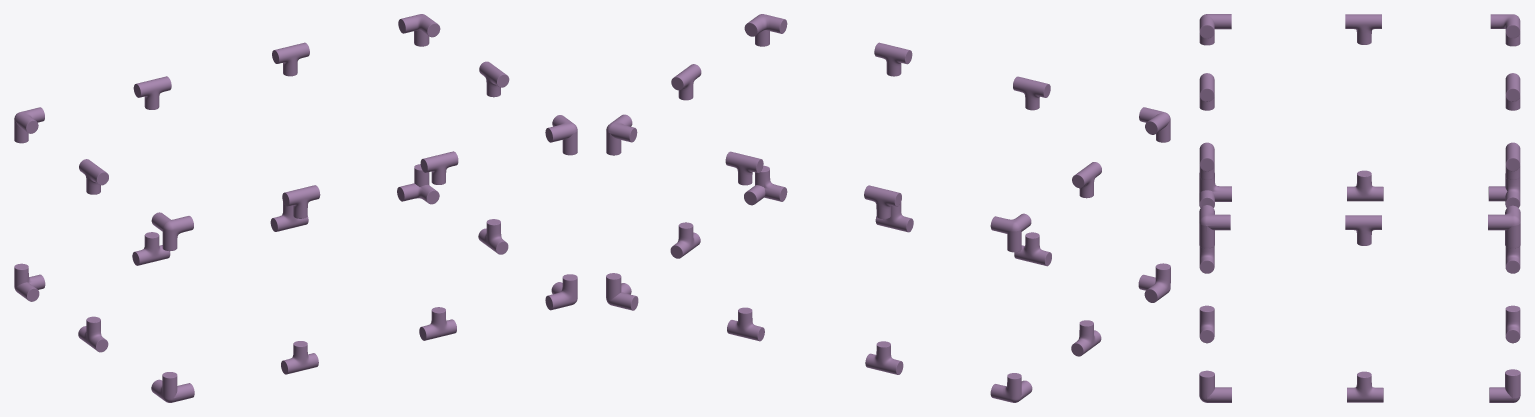
Rendered from Connections.fbx.
The picture shows the model from 3 angles, left to right: view 1: azimuth 30°, elevation 25°; view 2: azimuth 150°, elevation 25°; view 3: azimuth 270°, elevation 25°; orthographic projection. The views are drawn at different scales.
Visible parts, largest first — view 1: polySurface56, polySurface62, polySurface61, polySurface60, polySurface57, polySurface58, polySurface54, polySurface39, polySurface44, polySurface43, polySurface52, polySurface45 (+8 smaller); view 2: polySurface58, polySurface60, polySurface52, polySurface57, polySurface61, polySurface62, polySurface54, polySurface56, polySurface44, polySurface40, polySurface41, polySurface42 (+8 smaller); view 3: polySurface61, polySurface60, polySurface49, polySurface48, polySurface47, polySurface50, polySurface62, polySurface58, polySurface56, polySurface57, polySurface52, polySurface54 (+8 smaller).
Part boxes in pixels (left/top/right/bottom): polySurface56: left=151, top=212, right=193, bottom=251; polySurface62: left=397, top=164, right=439, bottom=204; polySurface61: left=398, top=14, right=440, bottom=46; polySurface60: left=545, top=115, right=577, bottom=155; polySurface57: left=151, top=372, right=194, bottom=402; polySurface58: left=545, top=274, right=577, bottom=310; polySurface54: left=14, top=263, right=45, bottom=301; polySurface39: left=133, top=76, right=171, bottom=109; polySurface44: left=420, top=151, right=458, bottom=184; polySurface43: left=282, top=185, right=320, bottom=218; polySurface52: left=14, top=107, right=44, bottom=143; polySurface45: left=419, top=307, right=456, bottom=340; polySurface58: left=744, top=165, right=787, bottom=205; polySurface60: left=744, top=14, right=787, bottom=46; polySurface52: left=990, top=213, right=1031, bottom=252; polySurface57: left=1138, top=263, right=1170, bottom=302; polySurface61: left=606, top=114, right=637, bottom=155; polySurface62: left=606, top=273, right=638, bottom=310; polySurface54: left=990, top=373, right=1032, bottom=402; polySurface56: left=1139, top=107, right=1170, bottom=142; polySurface44: left=874, top=42, right=912, bottom=76; polySurface40: left=725, top=151, right=763, bottom=185; polySurface41: left=865, top=341, right=903, bottom=374; polySurface42: left=727, top=307, right=764, bottom=341; polySurface61: left=1488, top=205, right=1520, bottom=248; polySurface60: left=1199, top=205, right=1230, bottom=248; polySurface49: left=1347, top=170, right=1383, bottom=201; polySurface48: left=1347, top=371, right=1383, bottom=402; polySurface47: left=1345, top=215, right=1381, bottom=245; polySurface50: left=1345, top=14, right=1381, bottom=44; polySurface62: left=1489, top=369, right=1520, bottom=402; polySurface58: left=1199, top=370, right=1231, bottom=402; polySurface56: left=1199, top=14, right=1231, bottom=45; polySurface57: left=1199, top=173, right=1231, bottom=207; polySurface52: left=1490, top=14, right=1520, bottom=46; polySurface54: left=1488, top=173, right=1520, bottom=207.
Bounding box in the file's own units: 72.34 × 30.33 × 47.31.
